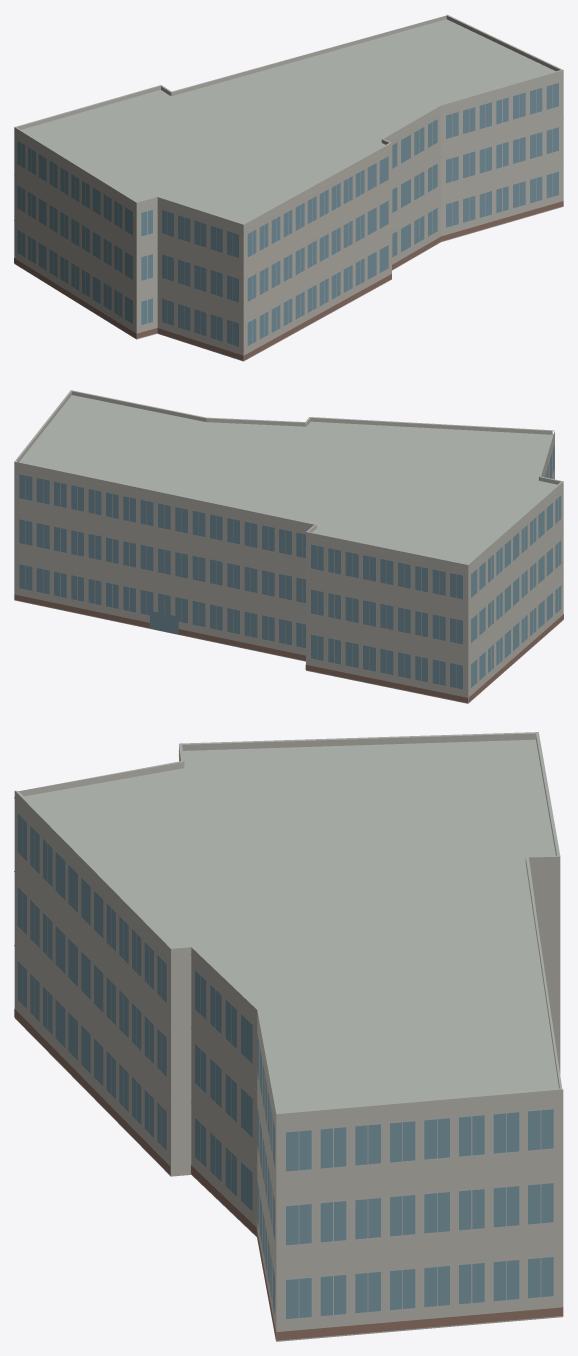
The model's file is public-f0e7a996-84b9-4f17-bea5-76f561175433.glb.
3 views of the same model, one above another, from view 1: azimuth 30°, elevation 25°; view 2: azimuth 150°, elevation 25°; view 3: azimuth 270°, elevation 25° (orthographic). The views are drawn at different scales.
Parts seen in each view (by area): view 1: public-f0e7a996-84b9-4f17-bea5-76f561175433; view 2: public-f0e7a996-84b9-4f17-bea5-76f561175433; view 3: public-f0e7a996-84b9-4f17-bea5-76f561175433.
Boxes of the visible parts, x1=… form: public-f0e7a996-84b9-4f17-bea5-76f561175433: x1=14, y1=14, x2=563, y2=361; public-f0e7a996-84b9-4f17-bea5-76f561175433: x1=14, y1=390, x2=563, y2=703; public-f0e7a996-84b9-4f17-bea5-76f561175433: x1=14, y1=732, x2=563, y2=1341.
Size of the model in its own units: 86.17 by 23.9 by 52.32.
